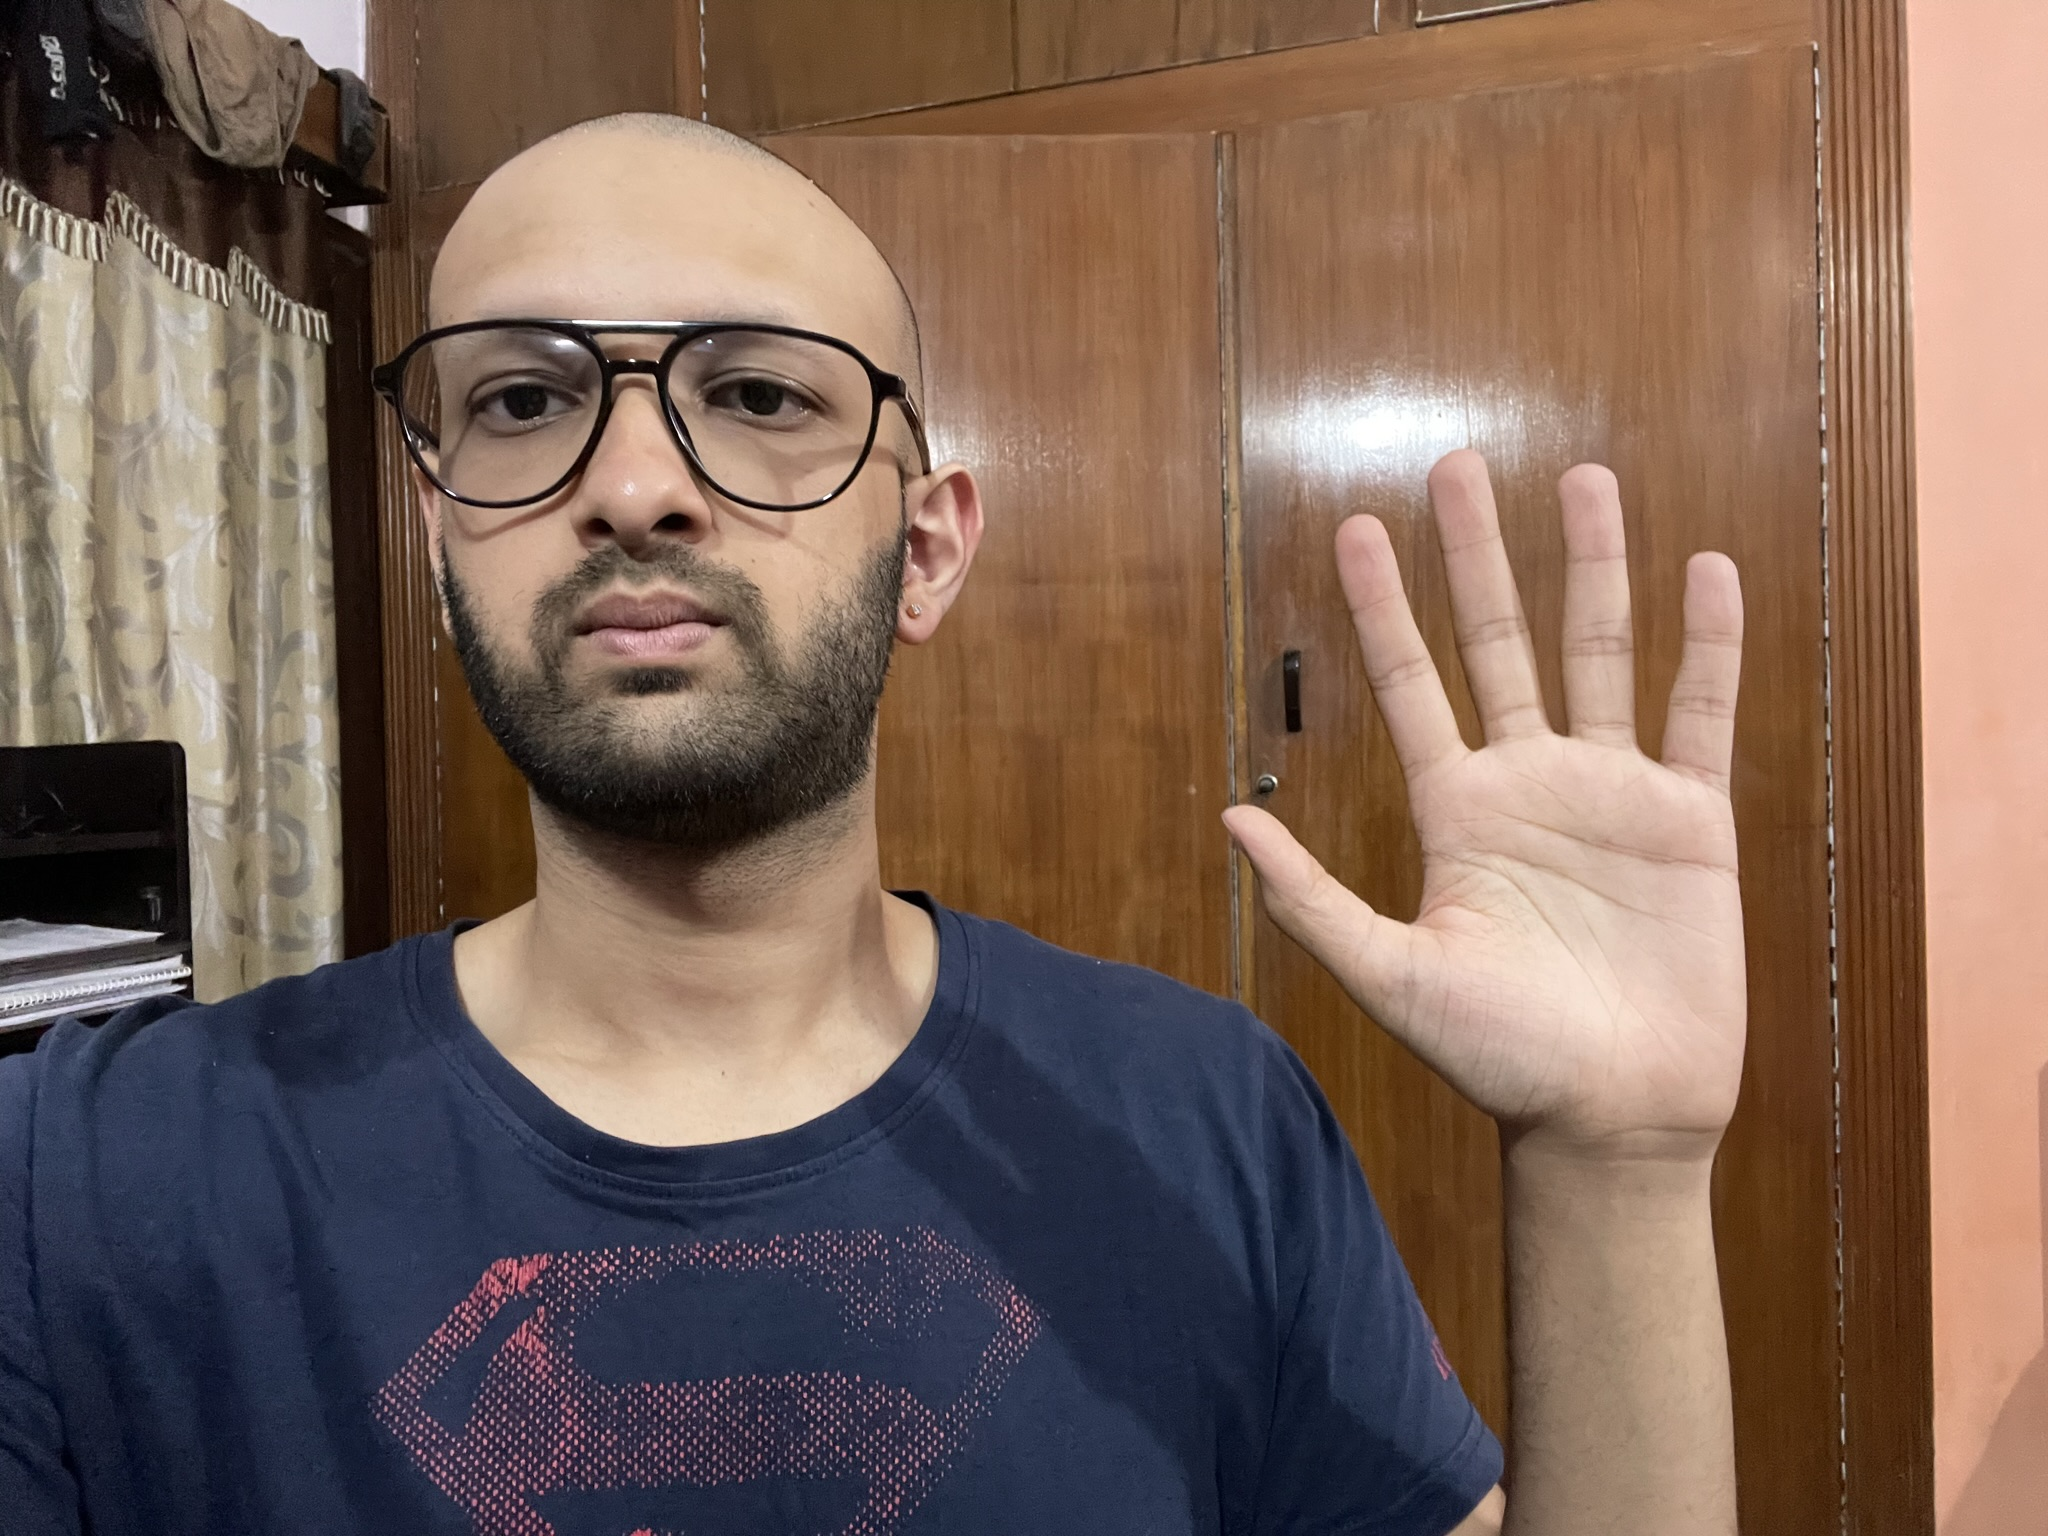Hello: (1206, 419, 1763, 1199)
